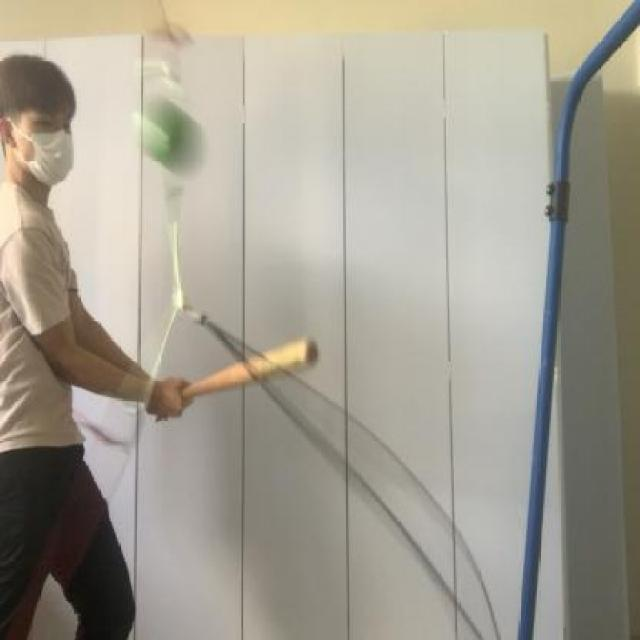baseball: (140, 85, 203, 181)
